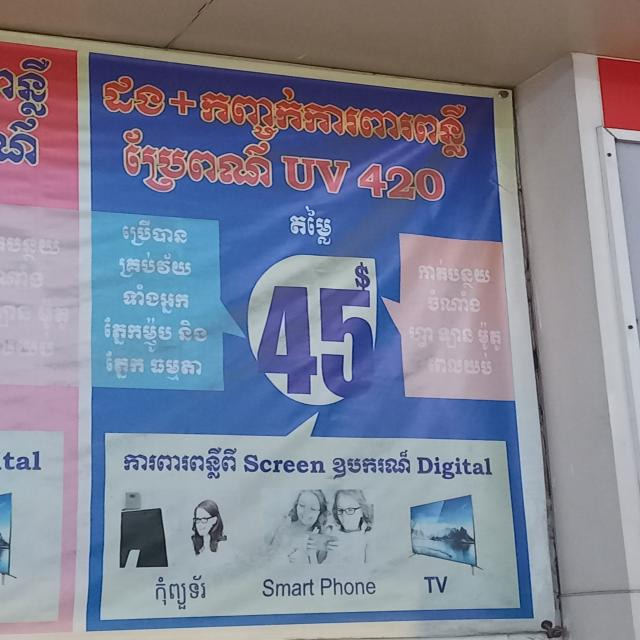1: (100, 312, 211, 353), (96, 349, 204, 386), (406, 321, 503, 348)
753: (354, 158, 447, 205)
754: (249, 282, 379, 398)
Yolov11kh: (200, 79, 481, 158), (115, 121, 276, 194), (113, 444, 241, 486), (97, 67, 169, 119), (326, 445, 414, 485), (146, 571, 218, 614), (416, 257, 495, 291), (116, 216, 199, 247), (284, 200, 342, 244), (119, 281, 192, 315), (116, 249, 196, 279), (419, 283, 487, 313), (425, 351, 499, 378)
